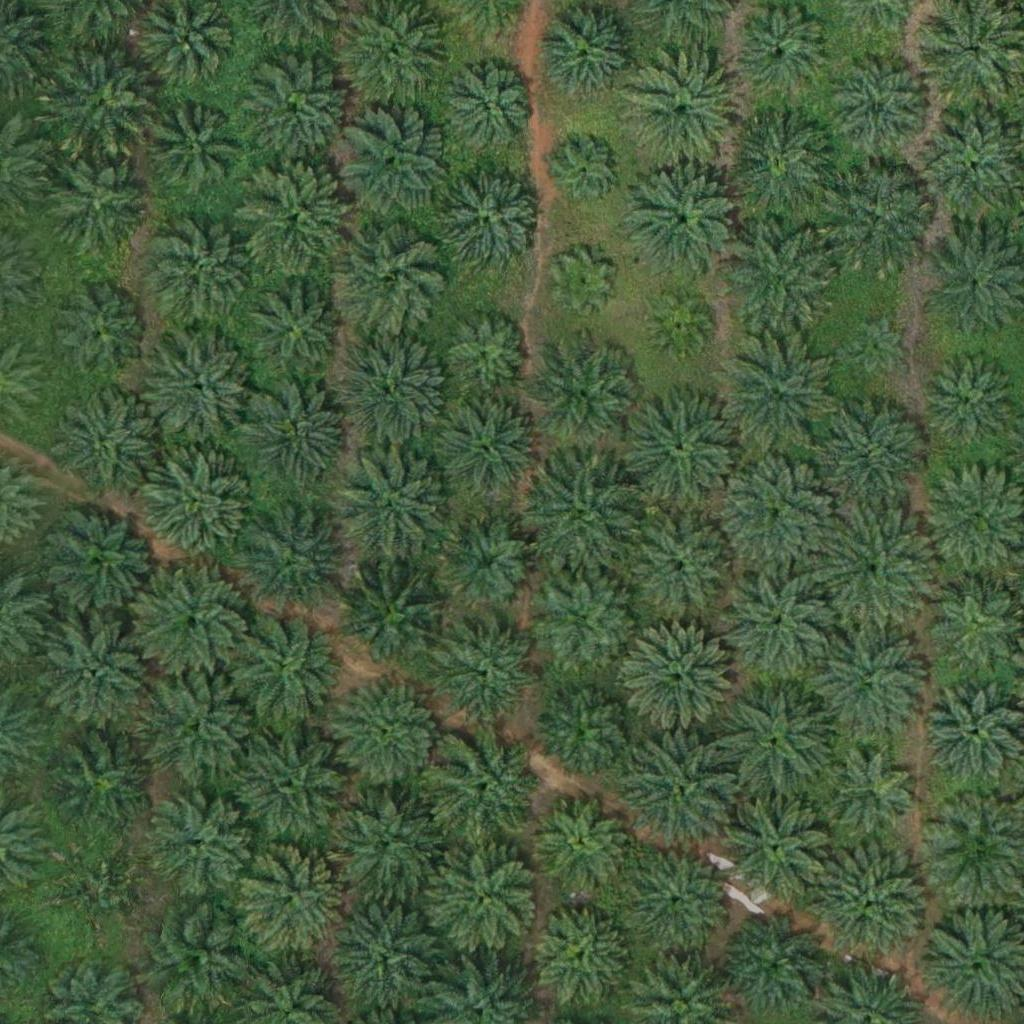Kelapa_Sawit: (340, 559, 453, 673), (48, 384, 161, 498), (225, 611, 338, 725), (332, 677, 445, 791), (430, 730, 543, 844), (427, 841, 540, 955), (239, 56, 352, 169), (625, 56, 738, 169), (718, 333, 831, 446), (722, 456, 835, 569), (627, 167, 740, 280), (624, 393, 737, 506), (332, 222, 445, 335), (336, 335, 449, 448), (337, 450, 450, 563), (237, 160, 350, 273), (239, 280, 352, 393), (40, 505, 153, 618), (39, 620, 152, 733), (42, 726, 155, 839), (140, 908, 253, 1021), (328, 790, 441, 903), (624, 623, 737, 736), (717, 568, 830, 681), (720, 682, 833, 795), (721, 787, 834, 900), (815, 847, 928, 960), (821, 166, 933, 280), (724, 109, 836, 223), (235, 499, 347, 613), (145, 330, 257, 444), (141, 451, 253, 565), (816, 398, 928, 511), (818, 511, 930, 624), (727, 222, 839, 335), (624, 512, 736, 625), (528, 339, 640, 452), (527, 461, 639, 574), (436, 166, 548, 279), (430, 397, 542, 510), (336, 107, 448, 220), (240, 382, 352, 495), (146, 214, 258, 327), (42, 48, 154, 161), (136, 566, 248, 679), (141, 670, 253, 783), (142, 788, 254, 901), (237, 729, 349, 842), (238, 844, 350, 957), (335, 897, 447, 1010), (622, 736, 734, 849), (620, 846, 732, 959), (812, 629, 924, 742), (438, 514, 538, 615), (143, 98, 243, 199), (538, 569, 638, 670), (539, 679, 639, 780), (723, 914, 823, 1015), (823, 747, 923, 848), (923, 680, 1023, 781), (830, 58, 930, 158), (918, 350, 1018, 450), (46, 157, 146, 257), (47, 287, 147, 387), (441, 619, 541, 719), (537, 794, 637, 894), (533, 906, 633, 1006), (445, 67, 533, 155), (442, 307, 530, 395), (63, 850, 150, 939), (648, 294, 711, 357), (556, 140, 619, 203), (551, 251, 614, 314), (845, 314, 907, 377)
